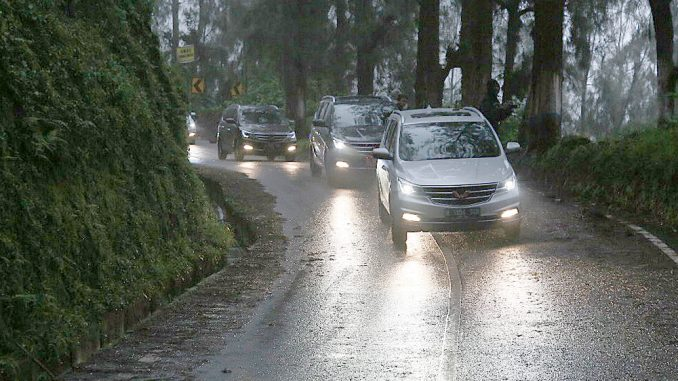plate: (443, 206, 480, 221)
